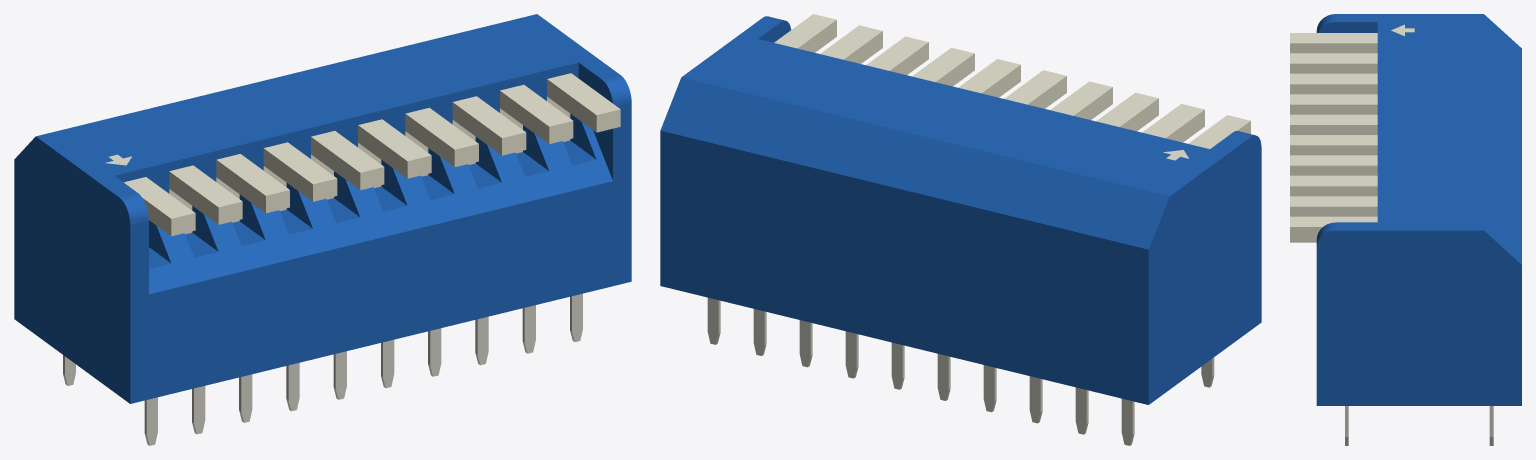
The model's file is kc-sw_dip_spstx10_piano_10.8x26.96mm_w7.62mm_p2.54mm.glb.
3 renders of one model, left to right at view 1: azimuth 30°, elevation 25°; view 2: azimuth 150°, elevation 25°; view 3: azimuth 270°, elevation 25°, orthographic. The views are drawn at different scales.
Parts seen in each view (by area): view 1: 0_0.16666666666666666_0.5_0, 0.75_0.75_0.6666666666666666_0, 0.6666666666666666_0.6666666666666666_0.5833333333333334_0.8; view 2: 0_0.16666666666666666_0.5_0, 0.75_0.75_0.6666666666666666_0, 0.6666666666666666_0.6666666666666666_0.5833333333333334_0.8; view 3: 0_0.16666666666666666_0.5_0, 0.75_0.75_0.6666666666666666_0, 0.6666666666666666_0.6666666666666666_0.5833333333333334_0.8.
Part boxes in pixels (bbox=[...]): 0_0.16666666666666666_0.5_0: bbox=[14, 14, 631, 403]; 0.75_0.75_0.6666666666666666_0: bbox=[105, 73, 620, 236]; 0.6666666666666666_0.6666666666666666_0.5833333333333334_0.8: bbox=[63, 293, 582, 445]; 0_0.16666666666666666_0.5_0: bbox=[660, 16, 1261, 404]; 0.75_0.75_0.6666666666666666_0: bbox=[774, 14, 1250, 160]; 0.6666666666666666_0.6666666666666666_0.5833333333333334_0.8: bbox=[707, 297, 1214, 445]; 0_0.16666666666666666_0.5_0: bbox=[1316, 14, 1521, 405]; 0.75_0.75_0.6666666666666666_0: bbox=[1290, 24, 1414, 242]; 0.6666666666666666_0.6666666666666666_0.5833333333333334_0.8: bbox=[1345, 406, 1493, 445].
Size of the model in its own units: 2.7 by 1.34 by 1.22.
